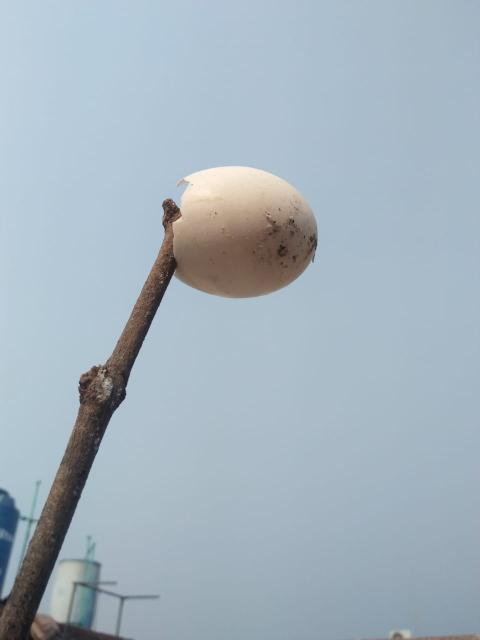Roto: (171, 164, 318, 299)
